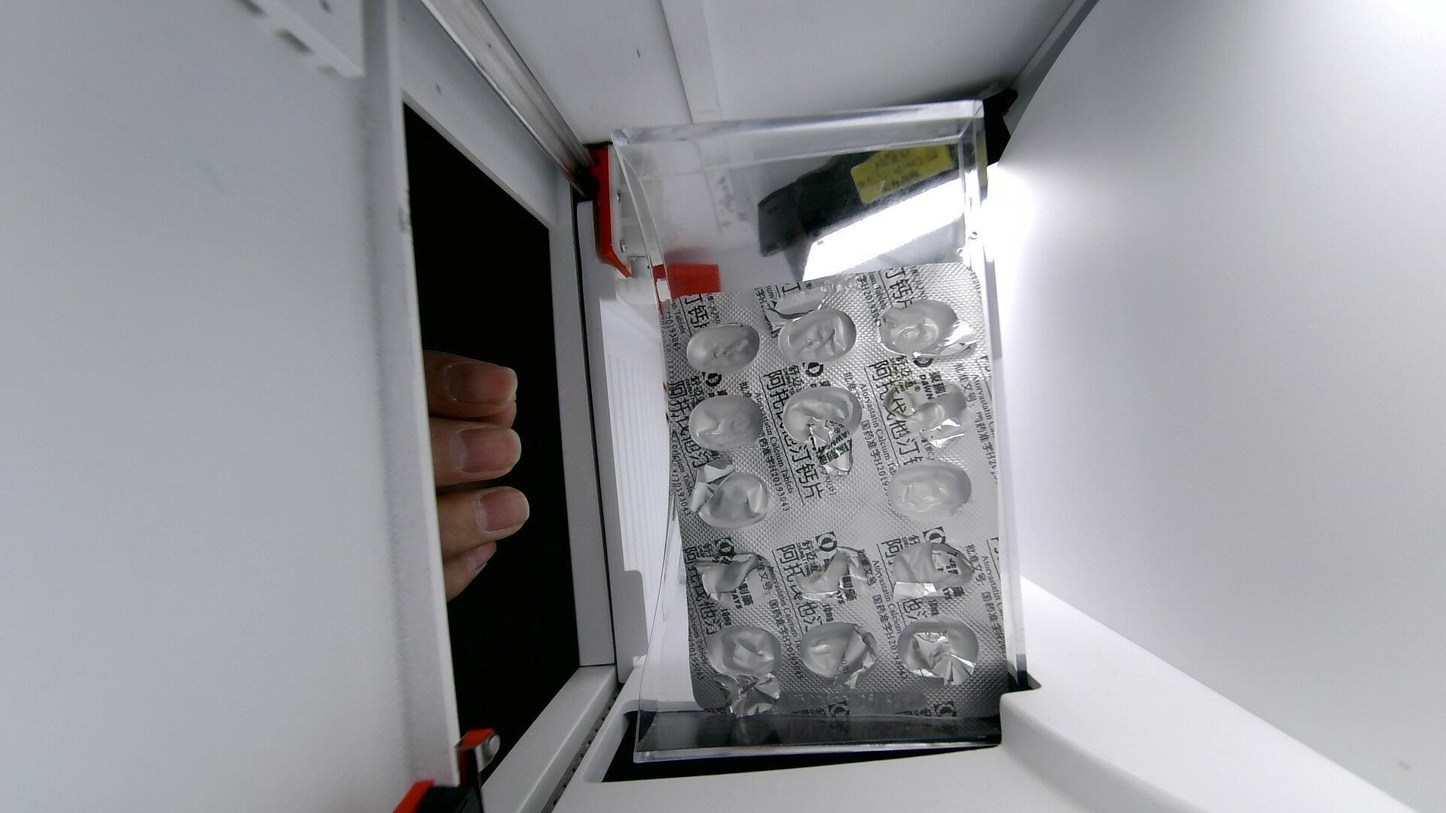No Pill Back: (880, 299, 974, 364), (691, 540, 775, 607), (897, 616, 978, 684), (887, 460, 972, 524), (783, 386, 862, 452), (799, 622, 874, 689), (690, 470, 771, 532), (881, 373, 966, 431), (889, 543, 975, 599), (707, 626, 782, 687), (787, 547, 869, 601), (688, 394, 763, 452), (779, 308, 856, 363), (686, 322, 760, 375)
